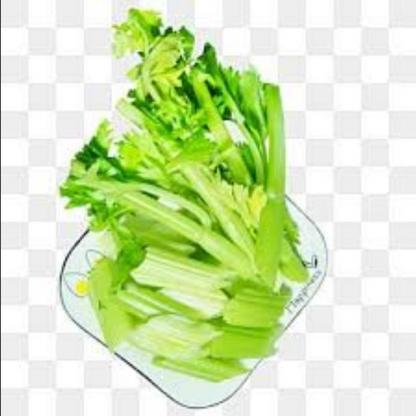celery: (56, 5, 285, 397)
